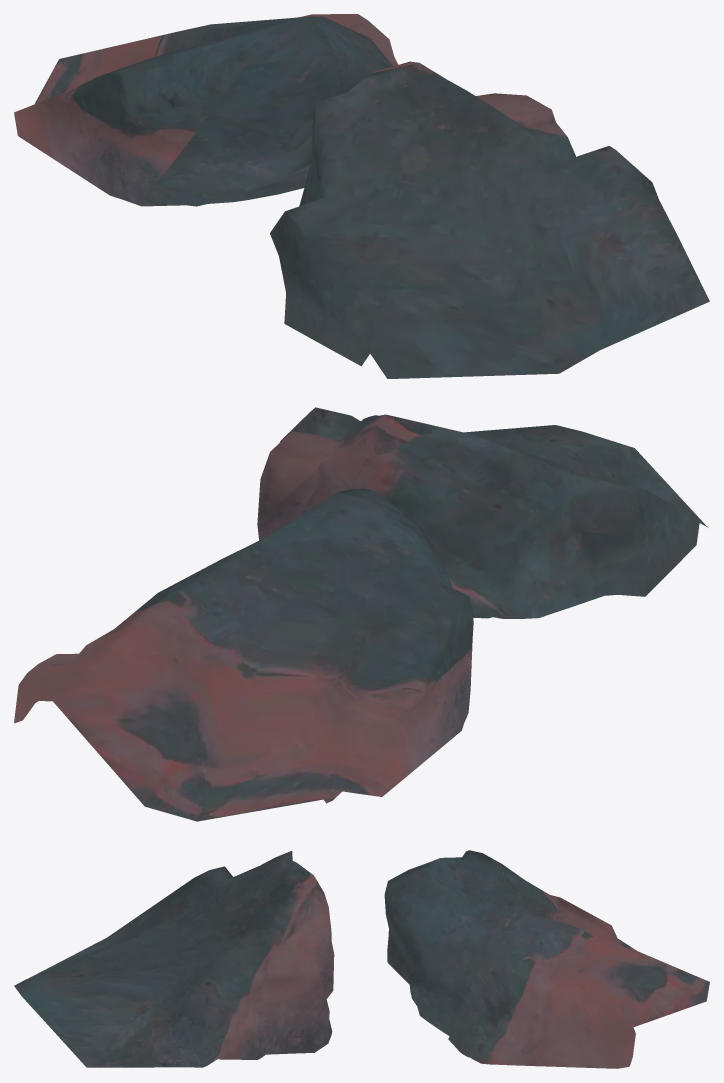
3 renders of one model, top to bottom at view 1: azimuth 30°, elevation 25°; view 2: azimuth 150°, elevation 25°; view 3: azimuth 270°, elevation 25°, orthographic. The views are drawn at different scales.
Visible parts, largest first — view 1: SM_BrokenEarth_Straight_LOD0; view 2: SM_BrokenEarth_Straight_LOD0; view 3: SM_BrokenEarth_Straight_LOD0.
Part boxes in pixels (x1,y1,x2,y2): SM_BrokenEarth_Straight_LOD0: [14, 14, 709, 378]; SM_BrokenEarth_Straight_LOD0: [14, 407, 708, 821]; SM_BrokenEarth_Straight_LOD0: [14, 850, 709, 1068].
Bounding box in the file's own units: 3.4 × 1.58 × 7.65.
Materials: 1 (1 with a texture image).
